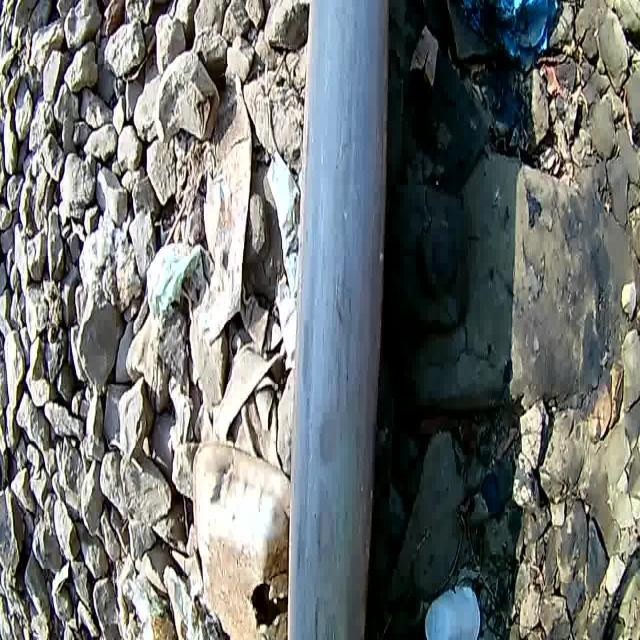Squats: (264, 0, 412, 640)
